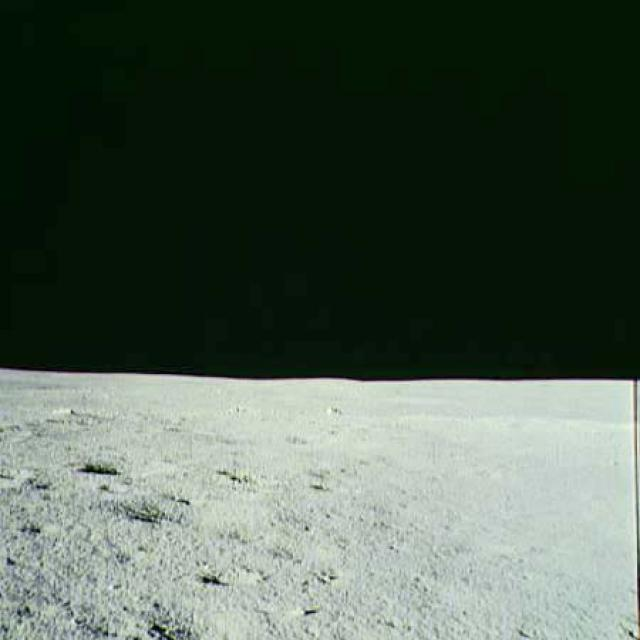crater: (120, 483, 225, 539), (180, 547, 282, 594), (44, 453, 198, 483)
